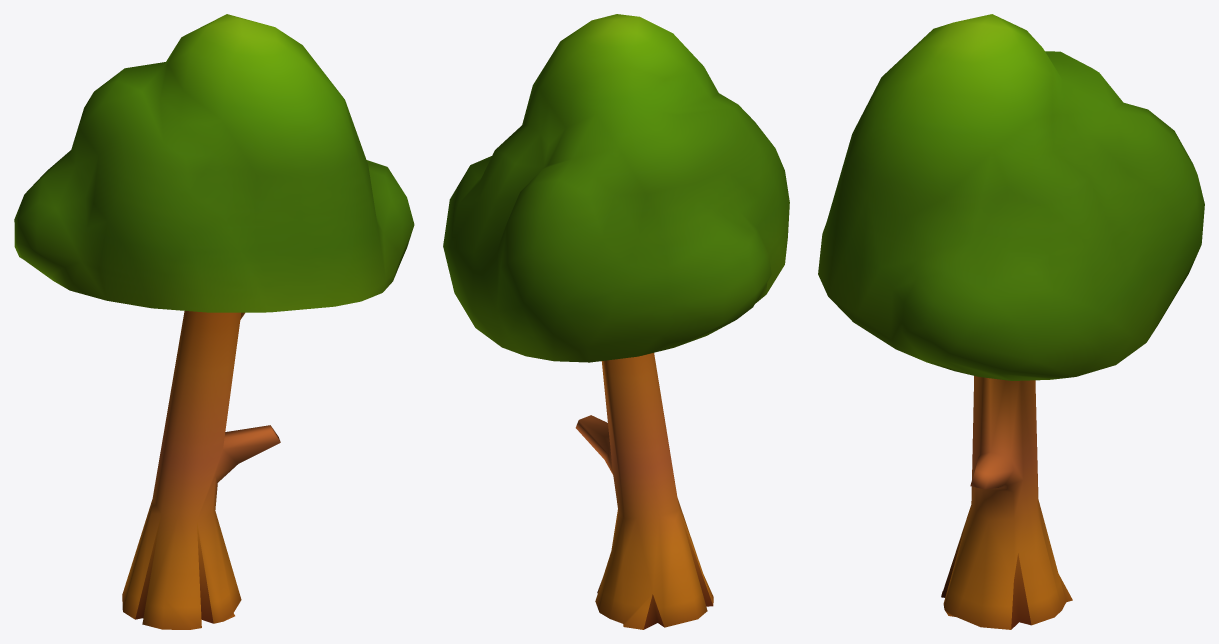
File: meta_tree_2.fbx
3 views of the same model, side by side, from view 1: azimuth 30°, elevation 25°; view 2: azimuth 150°, elevation 25°; view 3: azimuth 270°, elevation 25° (orthographic). The views are drawn at different scales.
Parts seen in each view (by area): view 1: meta_tree_2; view 2: meta_tree_2; view 3: meta_tree_2.
Part boxes in pixels (box(x1,y1,x2,y2)): meta_tree_2: box(14, 14, 414, 629); meta_tree_2: box(443, 14, 789, 629); meta_tree_2: box(818, 14, 1204, 629).
Bounding box in the file's own units: 143 × 230 × 134.
